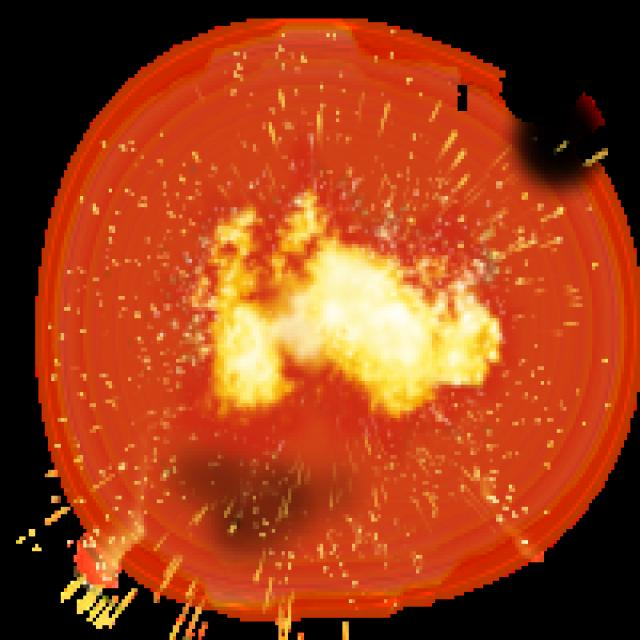fire: (115, 142, 549, 414)
